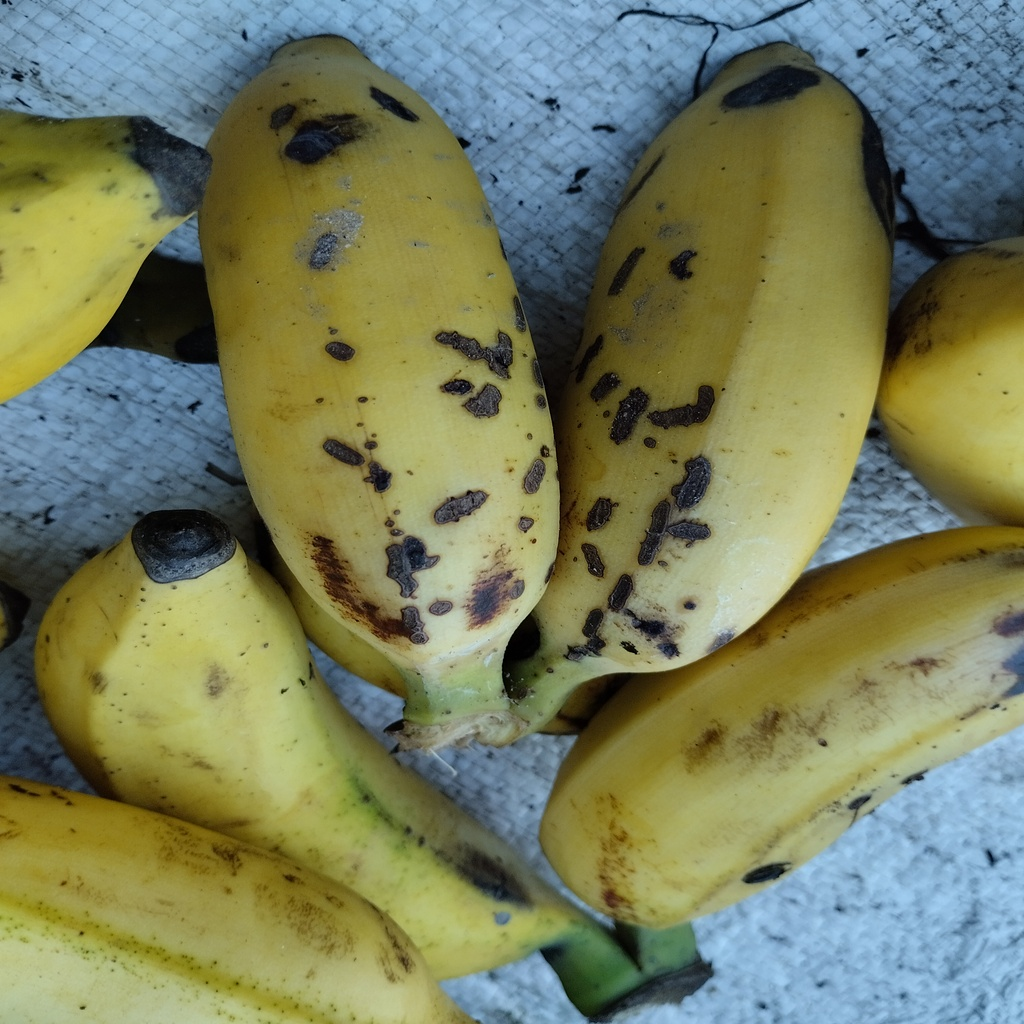unhealthy: (202, 38, 559, 669), (540, 48, 890, 668)
